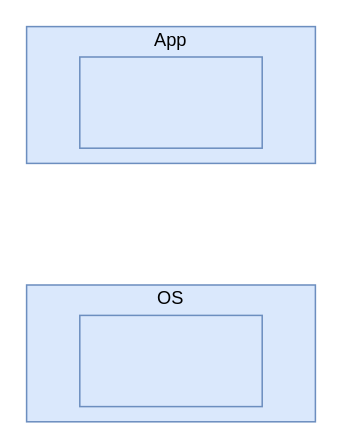
The diagram is 342 pixels wide and 448 high, and some of its shapes have lost their labels. Here are the shapes that lost their labels. From the top down, the centre of each, then its label:
At point (170, 101): "Zoom".
At point (170, 360): "Kernel".
